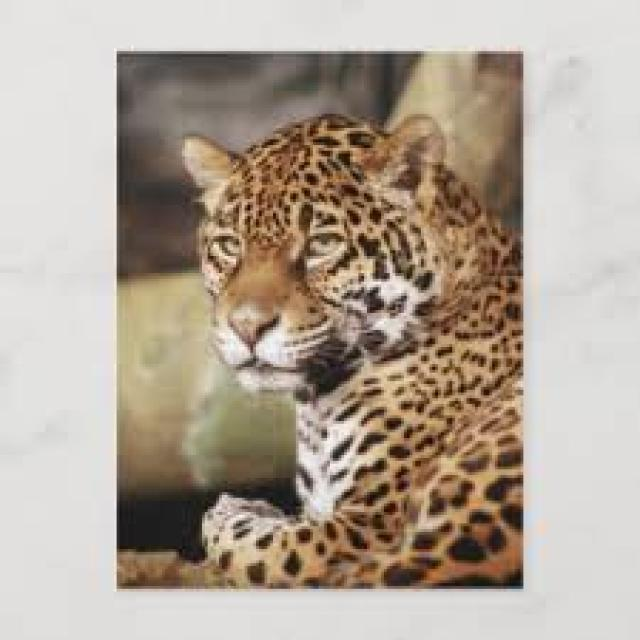Jaguar: (179, 108, 518, 586)
